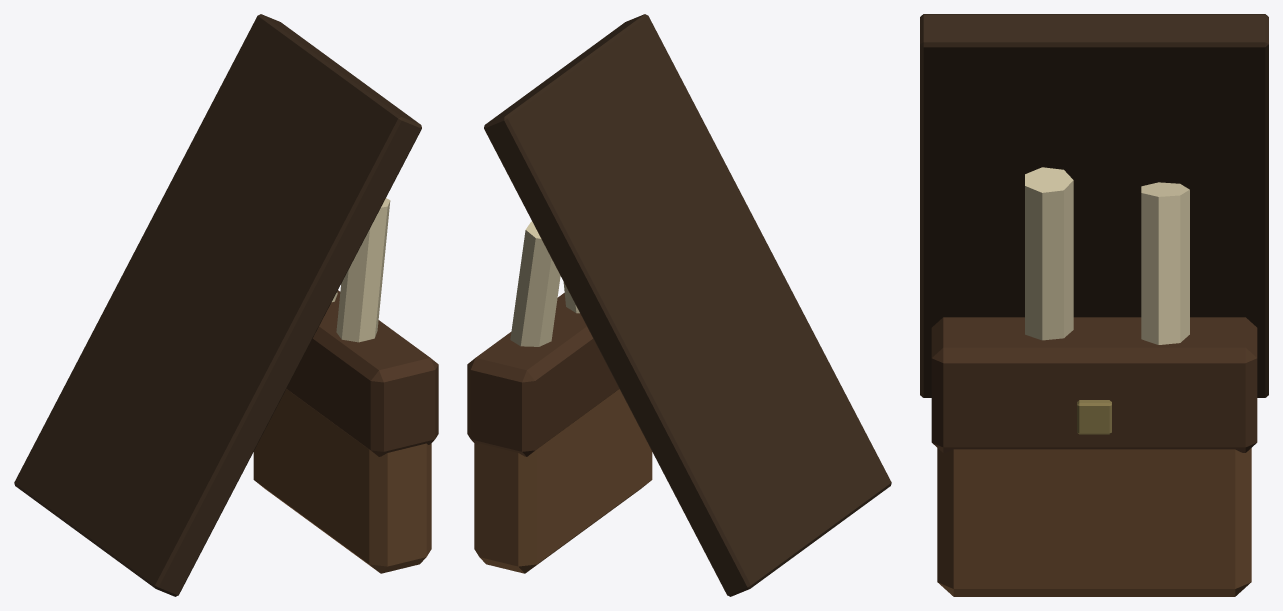
Rendered from npc_satchel.glb.
3 renders of one model, left to right at view 1: azimuth 30°, elevation 25°; view 2: azimuth 150°, elevation 25°; view 3: azimuth 270°, elevation 25°, orthographic. The views are drawn at different scales.
Parts seen in each view (by area): view 1: part.npc_satchel; view 2: part.npc_satchel; view 3: part.npc_satchel.
Part boxes in pixels (x1,y1,x2,y2): part.npc_satchel: [14, 14, 438, 596]; part.npc_satchel: [467, 14, 891, 596]; part.npc_satchel: [920, 14, 1268, 596].
Size of the model in its own units: 0.3602 by 0.5349 by 0.3.
